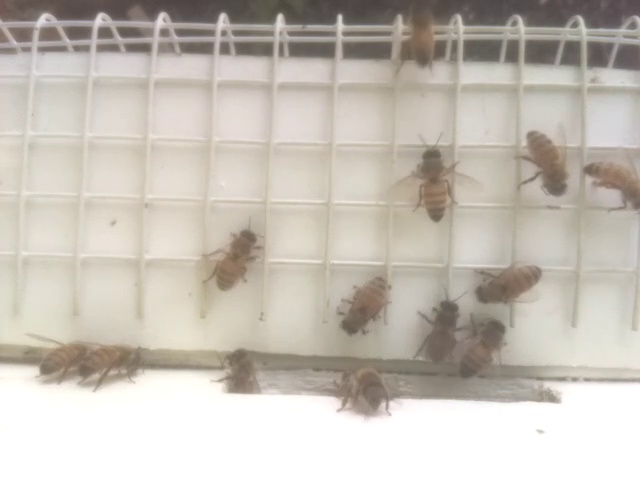bee: (15, 315, 158, 394), (396, 127, 485, 233), (506, 119, 581, 214), (575, 143, 640, 226), (333, 266, 398, 348), (325, 357, 402, 426), (418, 281, 474, 375), (203, 218, 265, 298), (388, 2, 455, 76), (463, 253, 548, 306), (466, 299, 511, 389)
